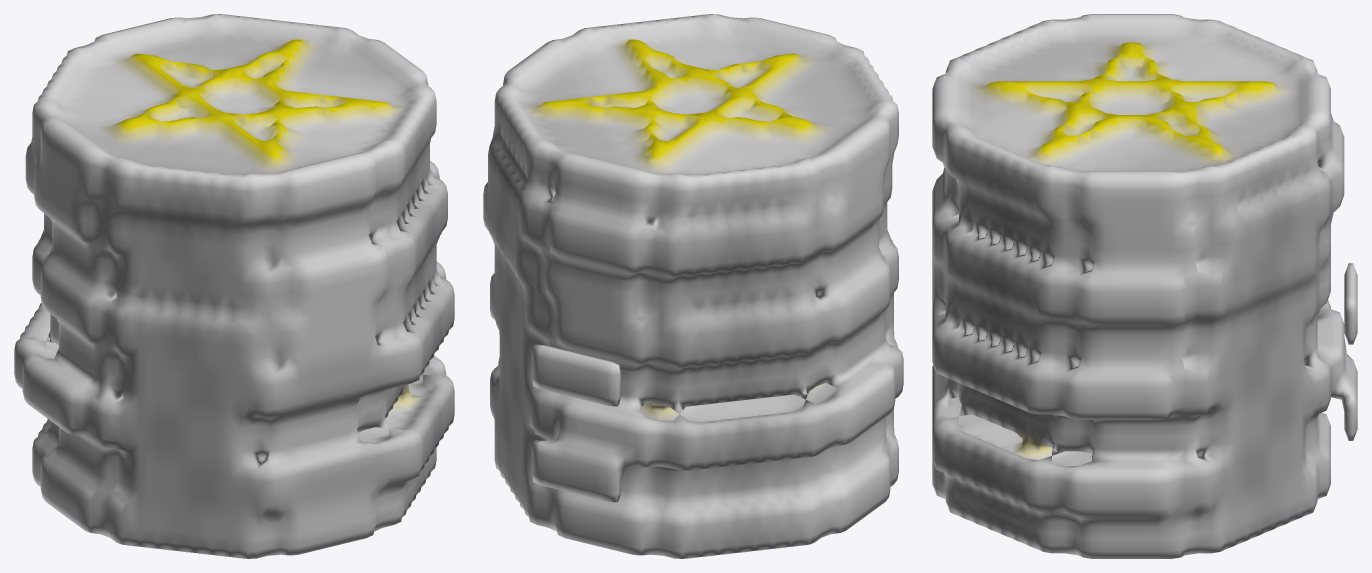
3 views of the same model, side by side, from view 1: azimuth 30°, elevation 25°; view 2: azimuth 150°, elevation 25°; view 3: azimuth 270°, elevation 25° (orthographic).
Bounding box in the file's own units: 1.6 × 1.6 × 1.6.
